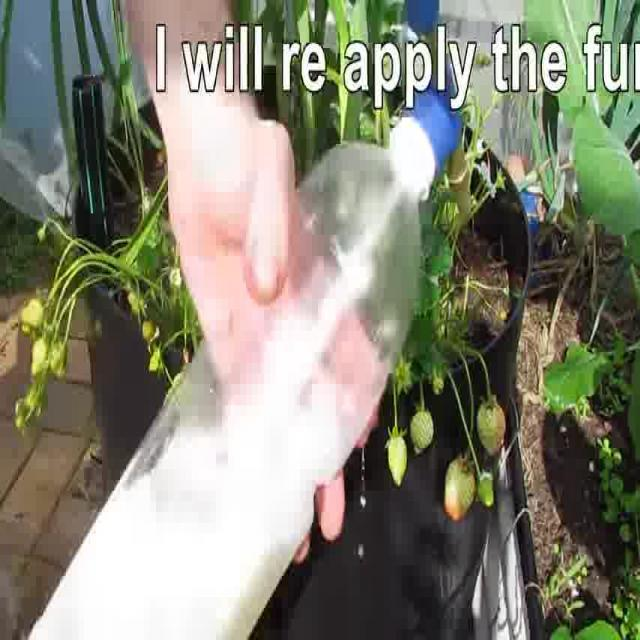Fruta sana: (476, 395, 506, 456), (20, 288, 48, 330), (32, 321, 53, 374), (23, 296, 48, 336), (476, 470, 494, 510), (148, 341, 168, 372), (50, 342, 66, 375), (142, 319, 156, 342), (36, 224, 48, 246), (432, 373, 444, 394), (14, 414, 26, 428)
Moho gris: (444, 448, 476, 522), (385, 426, 408, 488), (410, 404, 434, 454)
